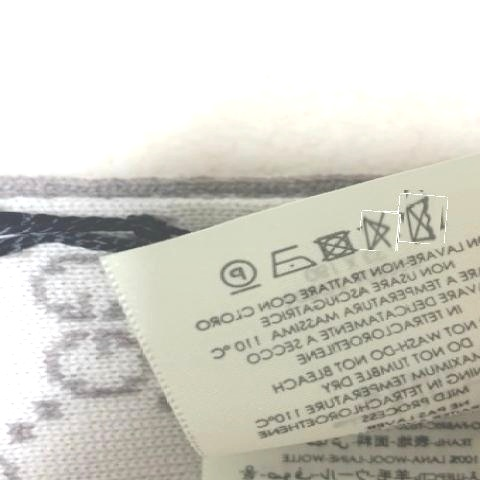DN_bleach: (360, 209, 393, 254)
DN_tumble_dry: (313, 228, 356, 264)
DN_wash: (403, 194, 443, 246)
dry_clean_any_solvent_except_trichloroethylene: (218, 255, 262, 295)
iron_low: (263, 242, 313, 278)
